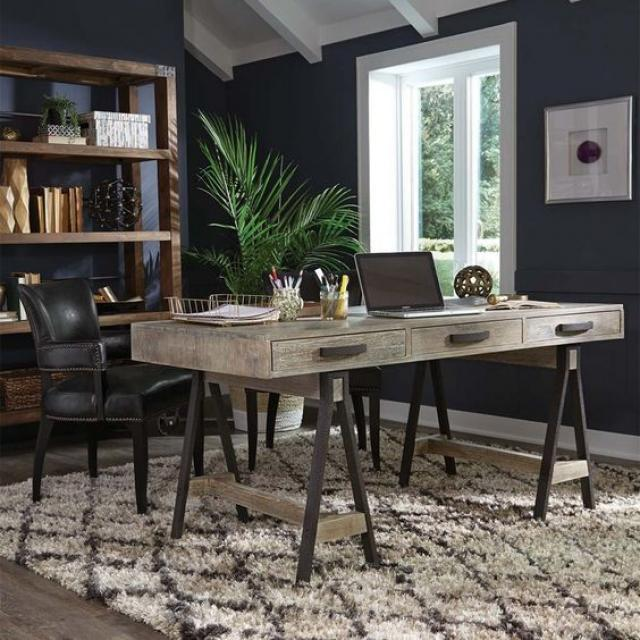table: (116, 279, 640, 384)
